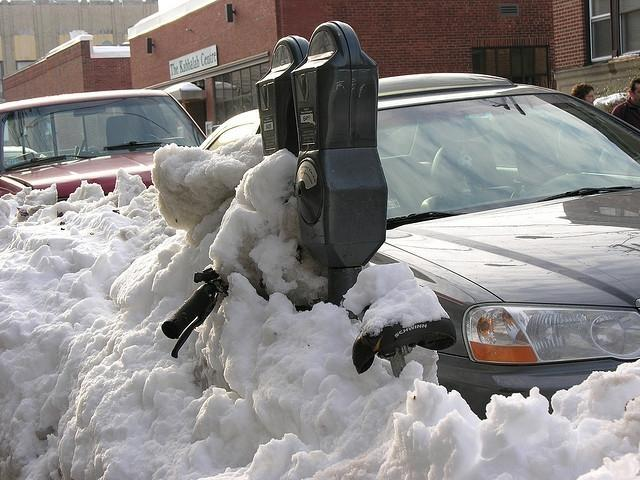bicycle: (160, 268, 458, 376)
car: (376, 88, 640, 384), (2, 90, 209, 222)
truck: (0, 90, 210, 198)
